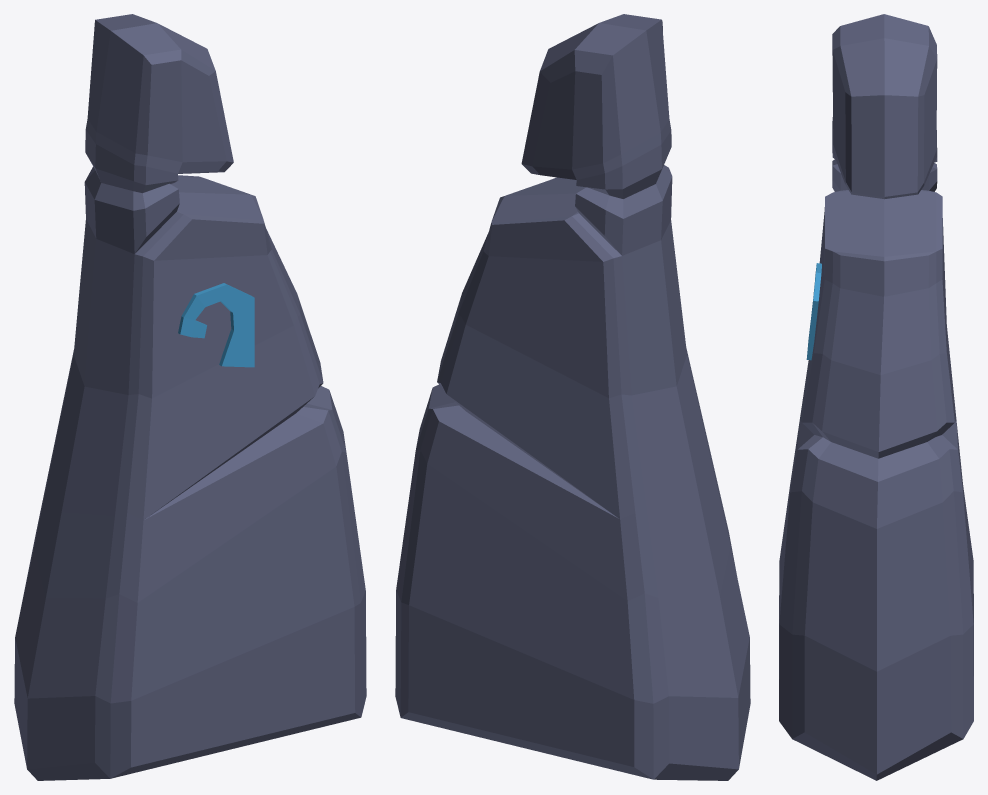
The model's file is blue_runic_obelisk.fbx.
The picture shows the model from 3 angles, left to right: view 1: azimuth 30°, elevation 25°; view 2: azimuth 150°, elevation 25°; view 3: azimuth 270°, elevation 25°; orthographic projection. The views are drawn at different scales.
Visible parts, largest first — view 1: Cube; view 2: Cube; view 3: Cube.
Part boxes in pixels (box(x1,y1,x2,y2)): Cube: box(14, 14, 366, 780); Cube: box(395, 14, 750, 780); Cube: box(779, 14, 973, 780).
Bounding box in the file's own units: 554 × 1148 × 306.
